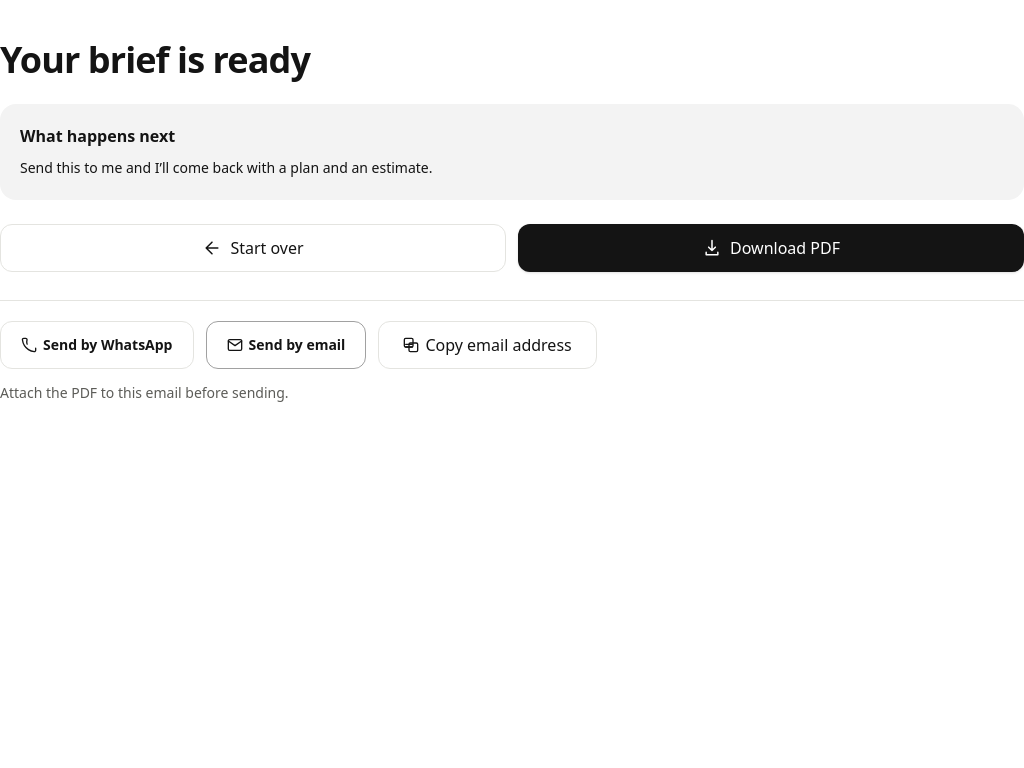
Scenario: DoneScreen start over › keeps the confirm buttons out of reach until the dialog is opened
Check: the button "Yes, start over" is not shown
Click the button "Start over". click: (253, 248)
box: [0, 224, 506, 272]
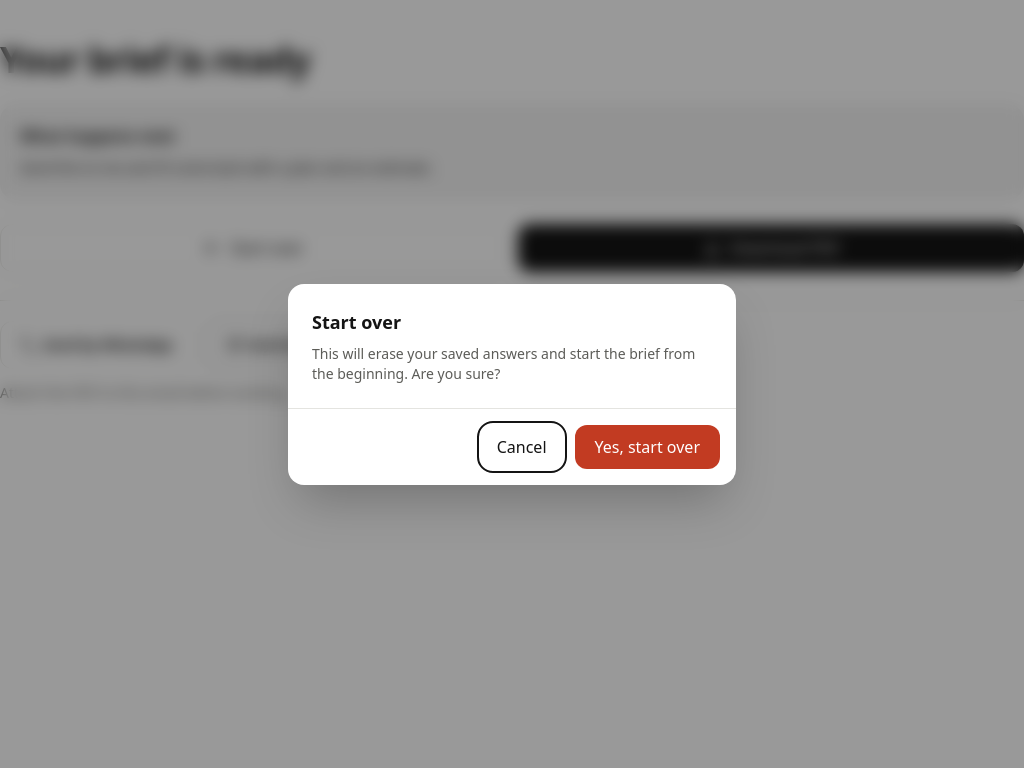
// A click on the dialog element itself is a click on its backdrop.
Click the dialog "Start over". click: (512, 384)
box: [288, 284, 736, 484]
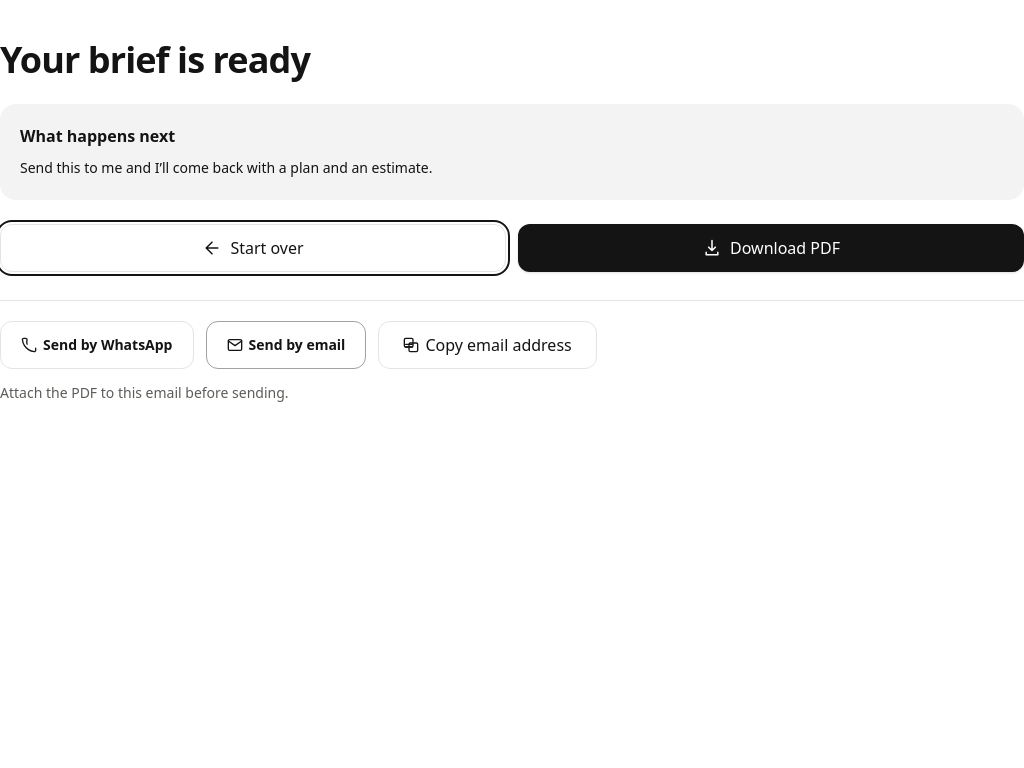
Check: the dialog is gone
